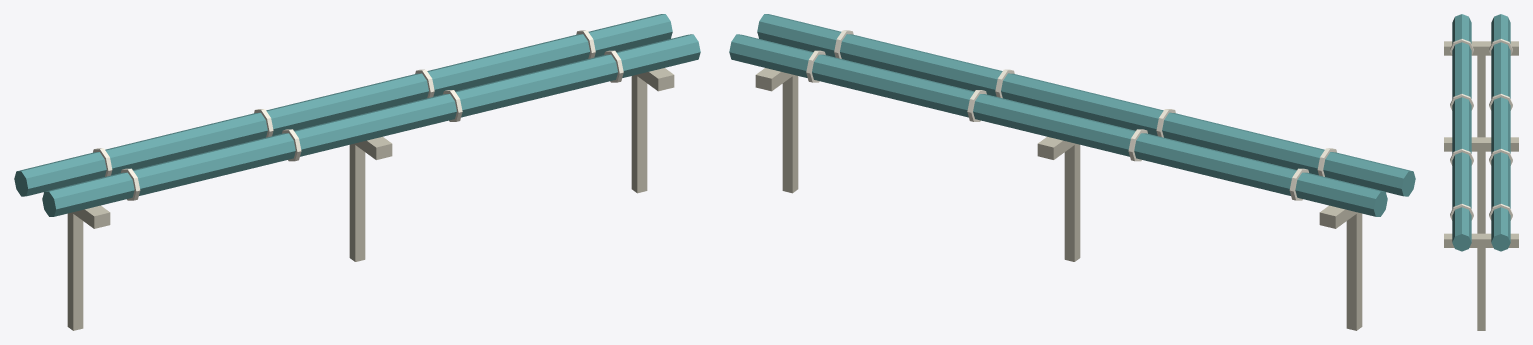
3 views of the same model, side by side, from view 1: azimuth 30°, elevation 25°; view 2: azimuth 150°, elevation 25°; view 3: azimuth 270°, elevation 25° (orthographic). The views are drawn at different scales.
Size of the model in its own units: 16 by 3.77 by 2.3.
